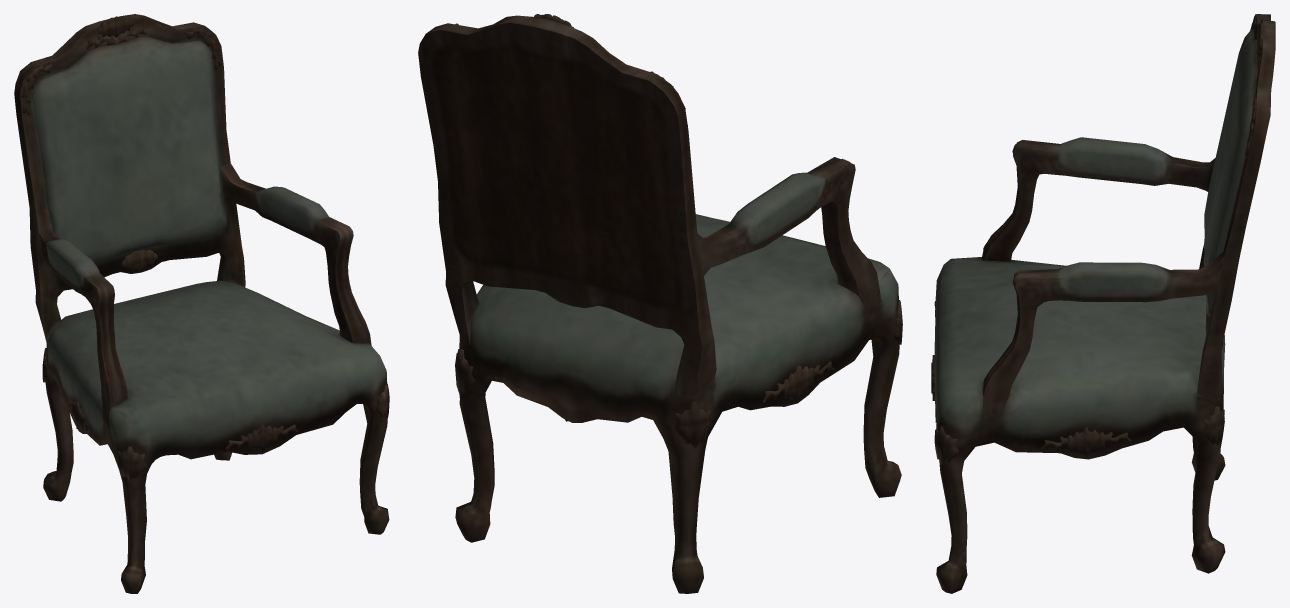
File: lfc_green_hallway_chair.glb
3 views of the same model, side by side, from view 1: azimuth 30°, elevation 25°; view 2: azimuth 150°, elevation 25°; view 3: azimuth 270°, elevation 25° (orthographic). The views are drawn at different scales.
Visible parts, largest first — view 1: GreenChair_01; view 2: GreenChair_01; view 3: GreenChair_01.
Part boxes in pixels (x1=…): GreenChair_01: x1=14, y1=14, x2=389, y2=593; GreenChair_01: x1=418, y1=14, x2=902, y2=593; GreenChair_01: x1=931, y1=14, x2=1275, y2=593.
Size of the model in its own units: 0.6731 by 1.06 by 0.6644.
1 material, 1 textured.
